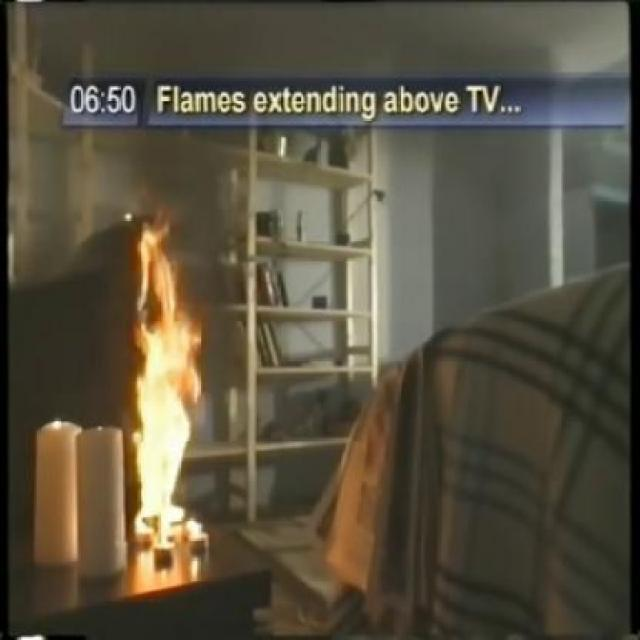fire: (139, 231, 199, 544)
smoke: (66, 172, 139, 428), (168, 143, 232, 294)
